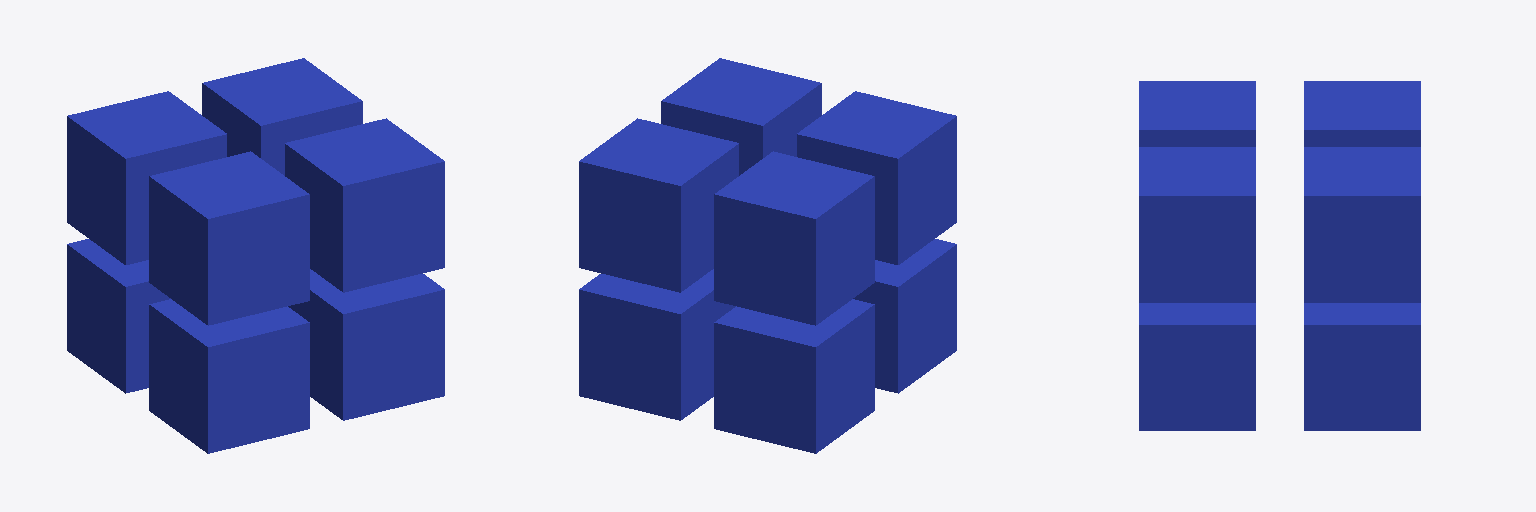
Rendered from musou.obj.
The picture shows the model from 3 angles: view 1: azimuth 30°, elevation 25°; view 2: azimuth 150°, elevation 25°; view 3: azimuth 270°, elevation 25°; orthographic projection.
Visible parts, largest first — view 1: 立方体; view 2: 立方体; view 3: 立方体.
Boxes of the visible parts, <box> form: 立方体: <box>67,58,444,453</box>; 立方体: <box>579,58,956,453</box>; 立方体: <box>1139,81,1420,430</box>.
Bounding box in the file's own units: 4.66 × 4.4 × 4.8.